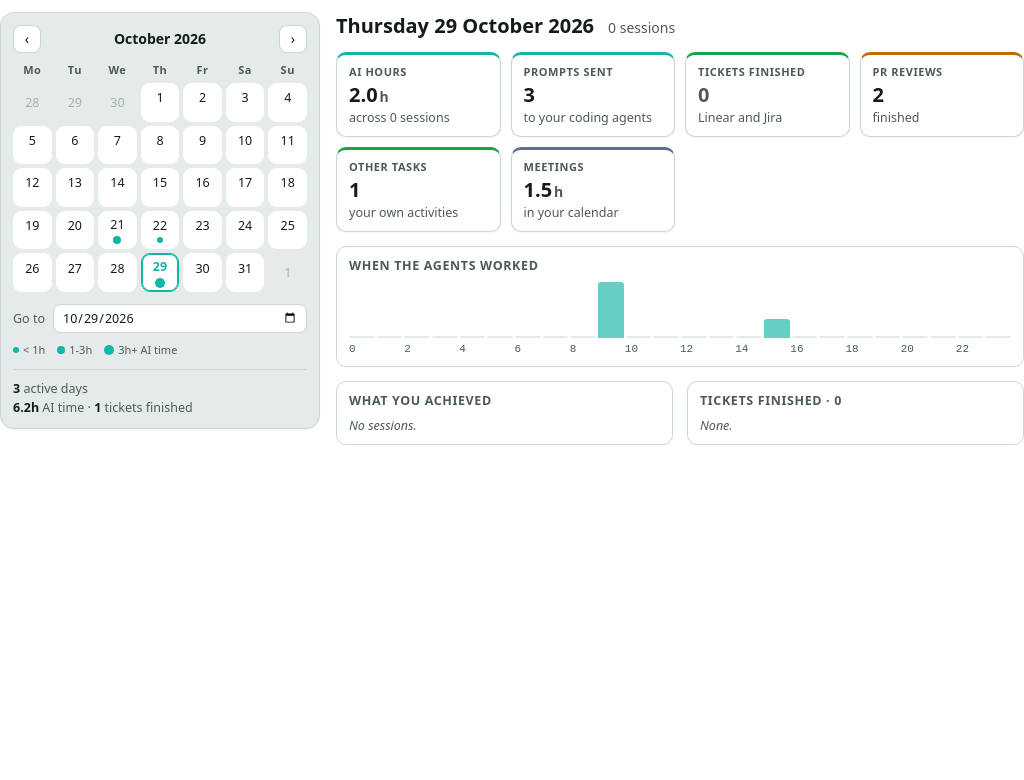
Test case: History › with several sessions to summarize › cancels the ask and asks no more when another day is picked
The width and height of the screenshot is (1024, 780).
Click the button named "21 October".
click(117, 230)  # box 98,211 -> 137,249
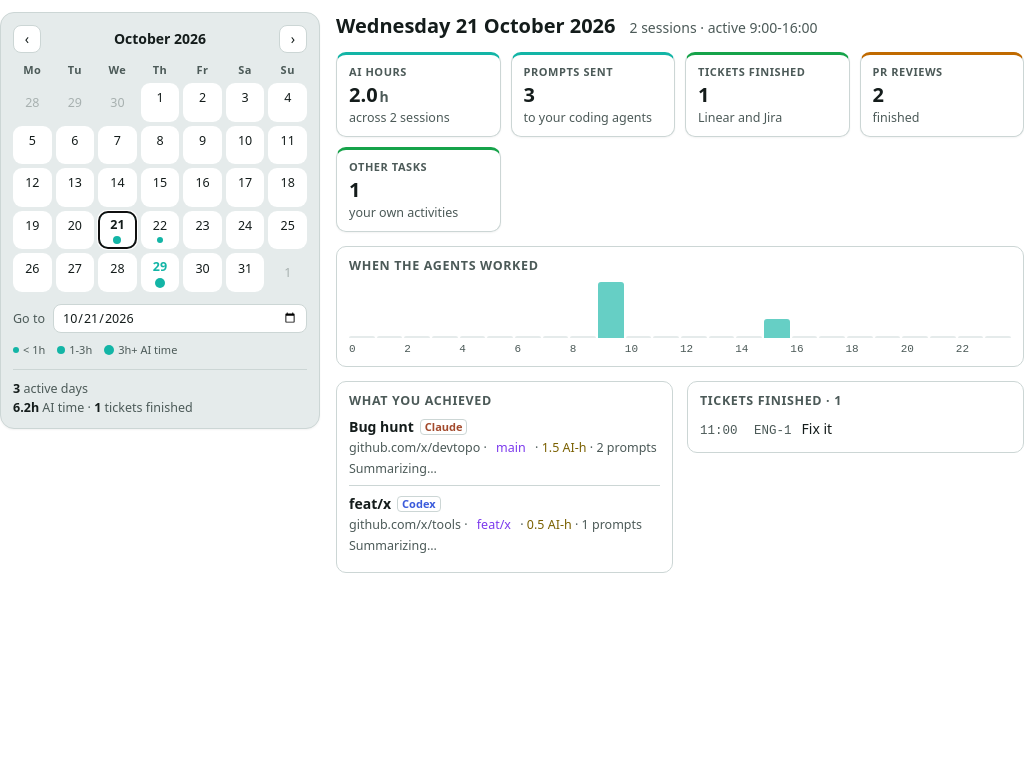
expect the heading "Wednesday 21 October 2026" is shown: met, box 336,12 -> 616,40
Click the button named "23 October".
click(203, 230)  # box 183,211 -> 222,249
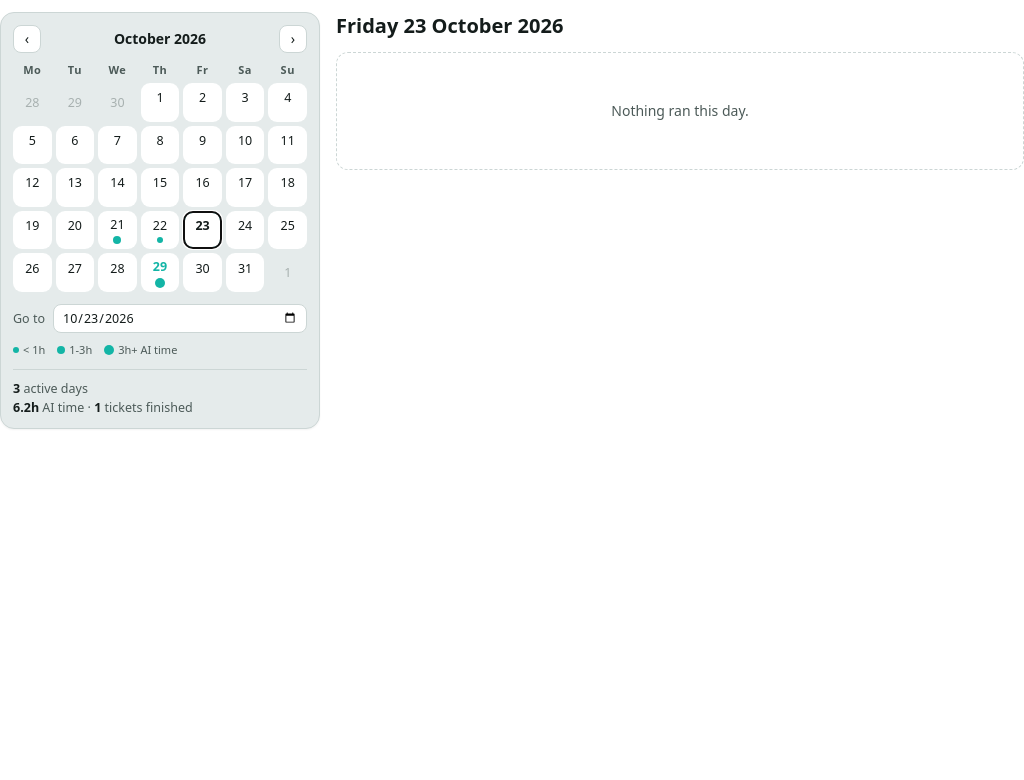
expect the text "Nothing ran this day." is shown: met, box 336,52 -> 1023,170
